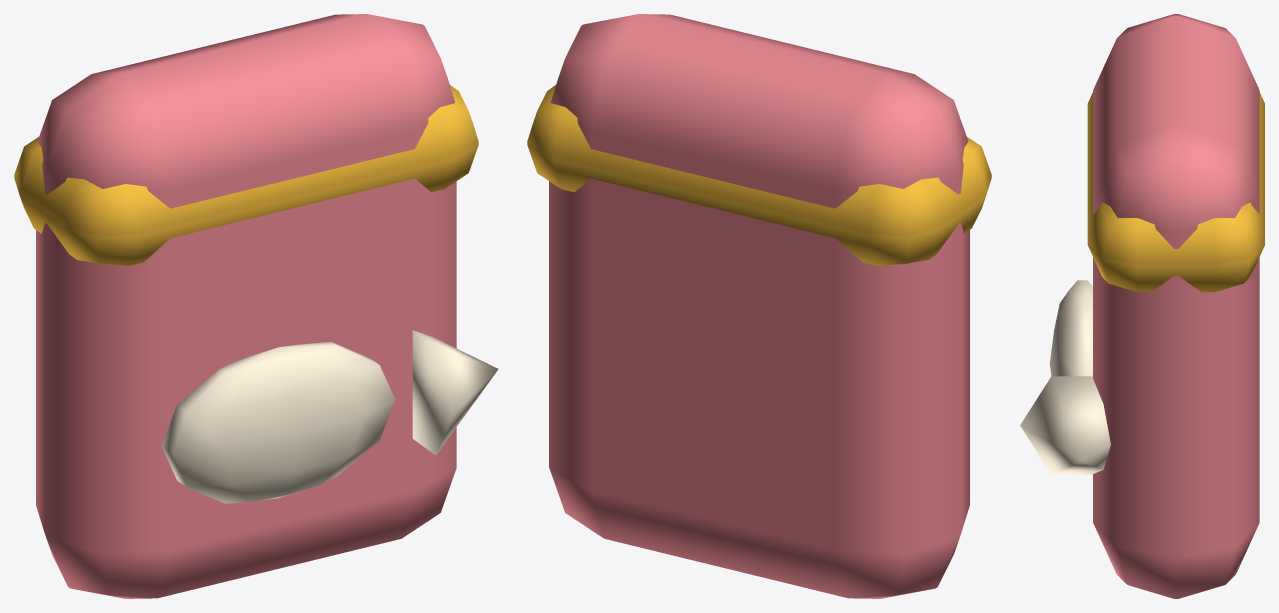
Rendered from cat_treats.glb.
The picture shows the model from 3 angles, left to right: view 1: azimuth 30°, elevation 25°; view 2: azimuth 150°, elevation 25°; view 3: azimuth 270°, elevation 25°; orthographic projection. The views are drawn at different scales.
Parts seen in each view (by area): view 1: Pouch, Fish, Band, FishTail; view 2: Pouch, Band; view 3: Pouch, Band, FishTail, Fish.
Boxes of the visible parts, x1,y1,x2,y2 form: Pouch: (36,14,456,598); Fish: (161,342,395,503); Band: (14,85,478,265); FishTail: (412,330,498,455); Pouch: (549,14,969,598); Band: (527,85,991,265); Pouch: (1093,14,1259,598); Band: (1087,92,1264,292); FishTail: (1020,376,1110,474); Fish: (1049,280,1092,376).
Size of the model in its own units: 0.205 by 0.25 by 0.1175.
